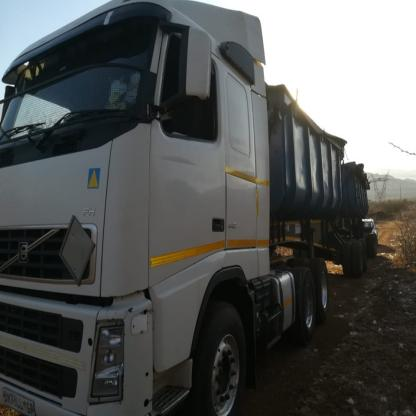dump_truck: (2, 3, 372, 415)
